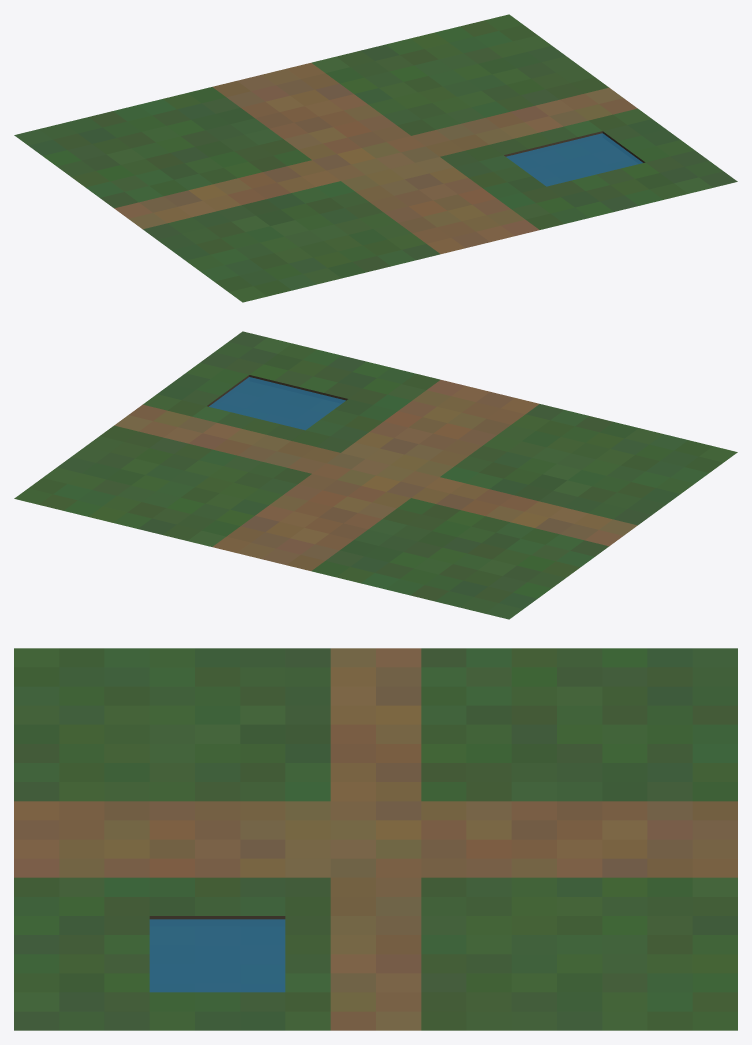
The picture shows the model from 3 angles, top to bottom: view 1: azimuth 30°, elevation 25°; view 2: azimuth 150°, elevation 25°; view 3: azimuth 270°, elevation 25°; orthographic projection. The views are drawn at different scales.
Visible parts, largest first — view 1: scenery; view 2: scenery; view 3: scenery.
Part boxes in pixels (x1,y1,x2,y2): scenery: (14, 14, 737, 302); scenery: (14, 331, 737, 619); scenery: (14, 648, 737, 1030).
Bounding box in the file's own units: 20 × 0.25 × 16.
